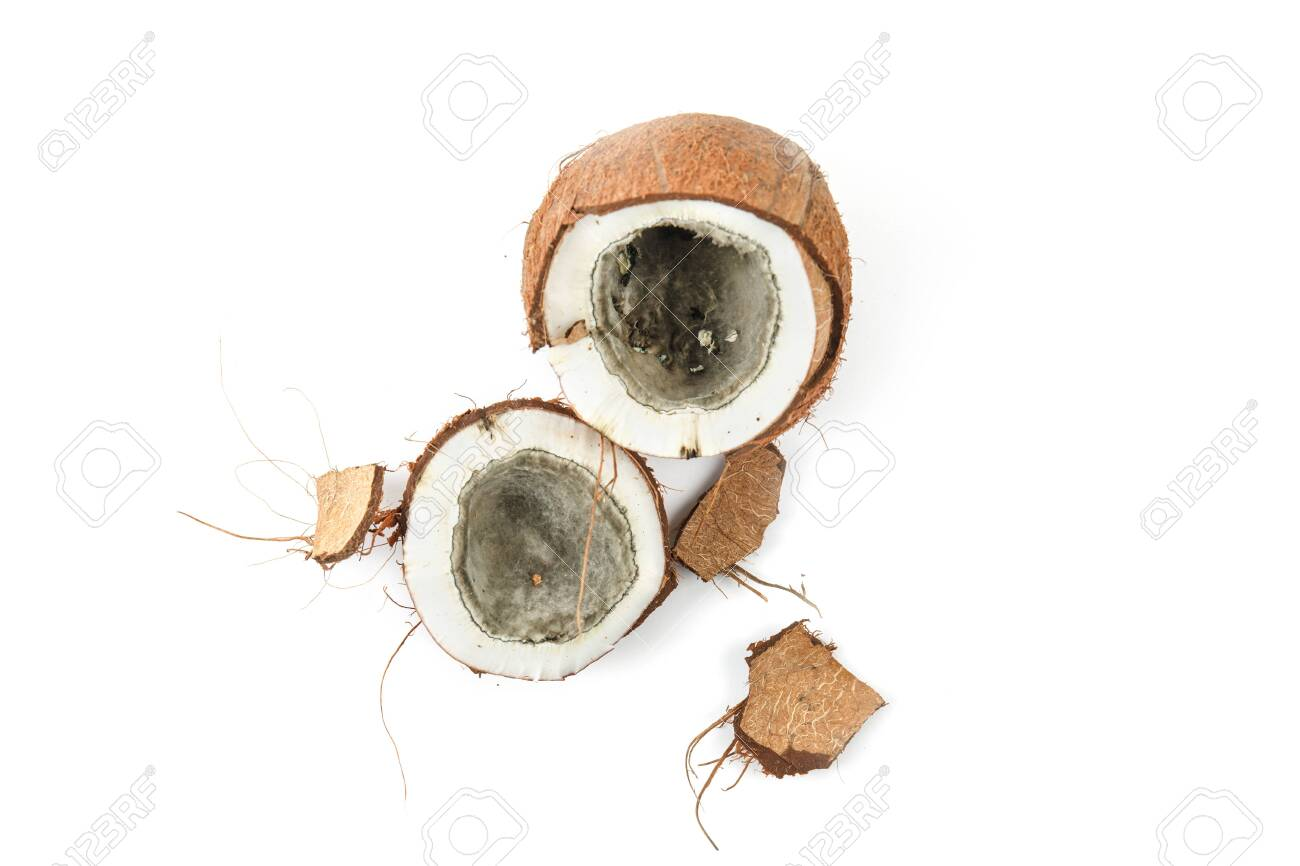damaged_coconut: (530, 128, 849, 445), (408, 403, 652, 686)
